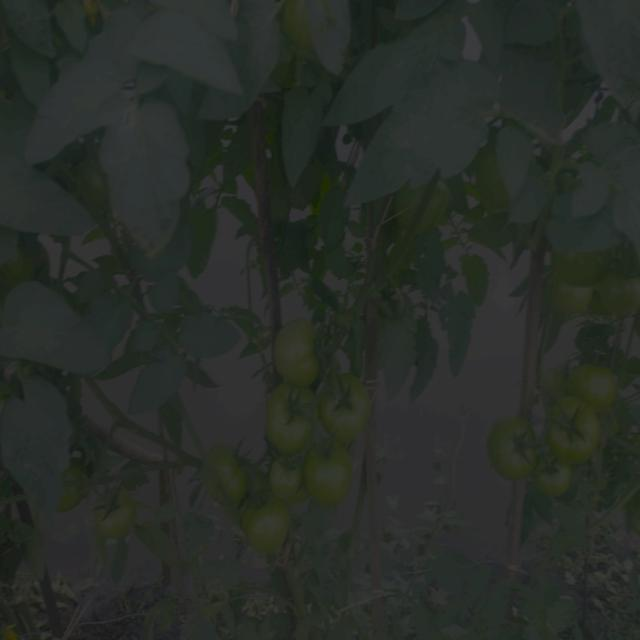tomato: (559, 254, 640, 321), (260, 389, 312, 452), (285, 1, 344, 56), (323, 383, 376, 443), (208, 445, 256, 502), (311, 455, 365, 503), (486, 418, 531, 475), (403, 178, 446, 235), (281, 323, 323, 379), (556, 406, 603, 456), (246, 508, 299, 550), (488, 159, 524, 219), (75, 154, 111, 207), (575, 361, 619, 404), (57, 455, 89, 512), (96, 485, 131, 533), (272, 464, 304, 502), (534, 465, 575, 490), (11, 254, 42, 285)
